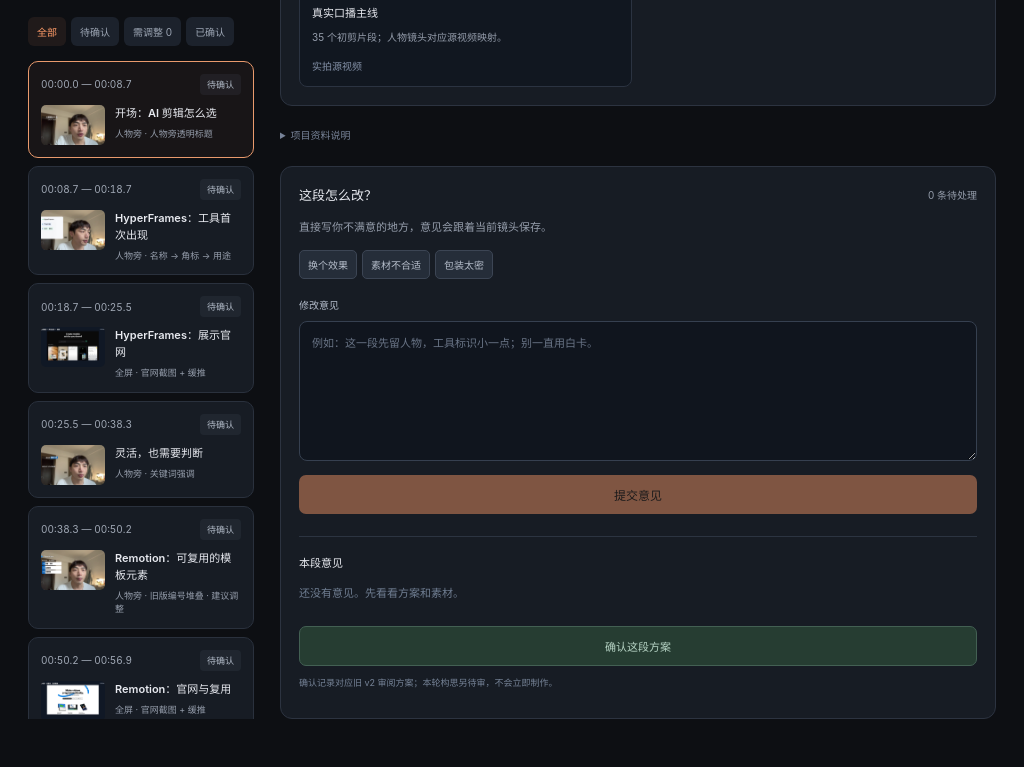
保存失败时保留输入，不显示保存成功
(page scrolled)
Expected: the button "确认这段方案" is enabled, [299,626,977,666]
Type "别遮住人物" into the text box labelled "修改意见".
click(638, 392); type("别遮住人物")  # box [299,322,977,462]
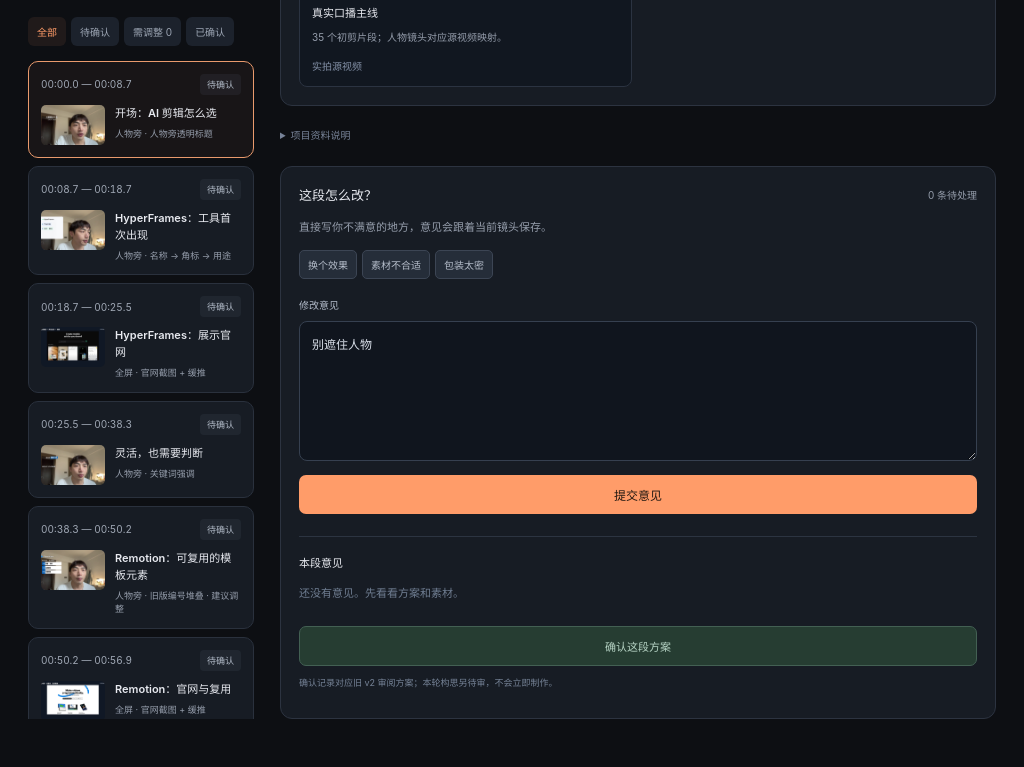
Click the button "提交意见".
click(638, 495)  # box [299,476,977,514]
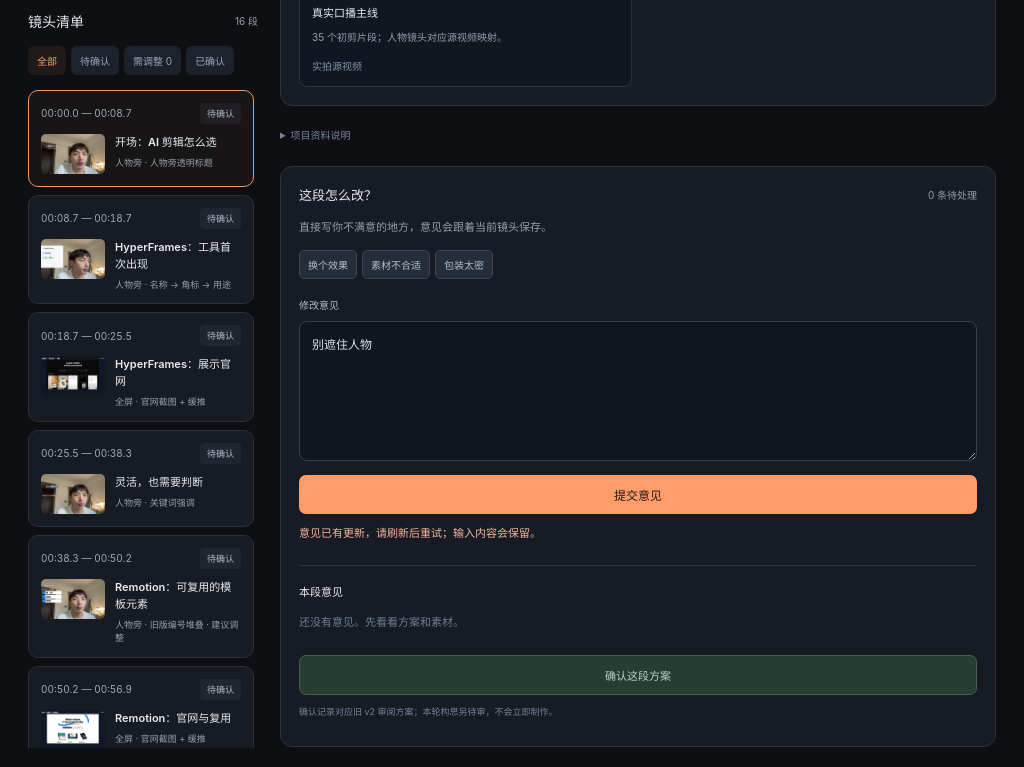
Expected: the message shows "输入内容会保留", [299,526,541,540]
